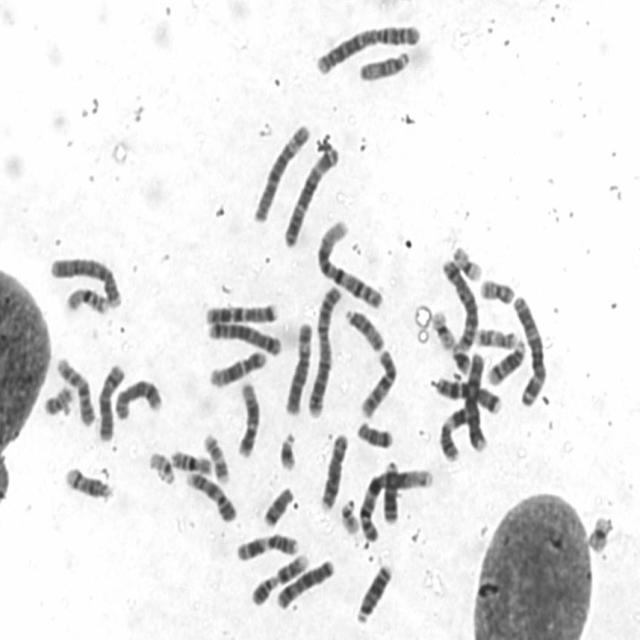A1: (313, 214, 385, 310), (356, 461, 434, 544)
A2: (312, 17, 424, 76), (304, 280, 343, 418)
A3: (281, 138, 342, 249), (509, 290, 550, 408)
B4: (46, 251, 125, 310), (463, 347, 490, 453)
B5: (438, 254, 481, 354), (204, 316, 284, 358)
C10: (356, 345, 400, 421), (52, 352, 97, 426)
C11: (436, 402, 477, 463), (233, 529, 301, 562)
C12: (206, 345, 270, 388), (234, 377, 261, 458)
C6: (250, 116, 312, 224), (282, 317, 314, 417)
C7: (431, 371, 503, 415), (202, 297, 280, 326)
C8: (317, 428, 351, 512), (112, 374, 164, 421)
C9: (249, 549, 310, 607), (183, 467, 239, 524)
D13: (354, 558, 394, 626), (380, 456, 401, 524)
D14: (484, 336, 529, 388), (60, 462, 115, 503)
D15: (341, 302, 386, 352), (356, 46, 412, 83)
E16: (62, 282, 112, 316), (167, 445, 214, 477)
E17: (200, 428, 232, 485), (472, 323, 520, 350)
E18: (260, 482, 296, 528), (353, 416, 395, 451)
F19: (448, 240, 484, 283), (428, 304, 458, 350)
F20: (476, 274, 516, 305), (41, 381, 75, 417)
G21: (276, 427, 300, 472), (448, 342, 473, 376)
G22: (145, 447, 177, 486), (338, 494, 362, 535)
X: (272, 555, 336, 610), (94, 359, 127, 442)
